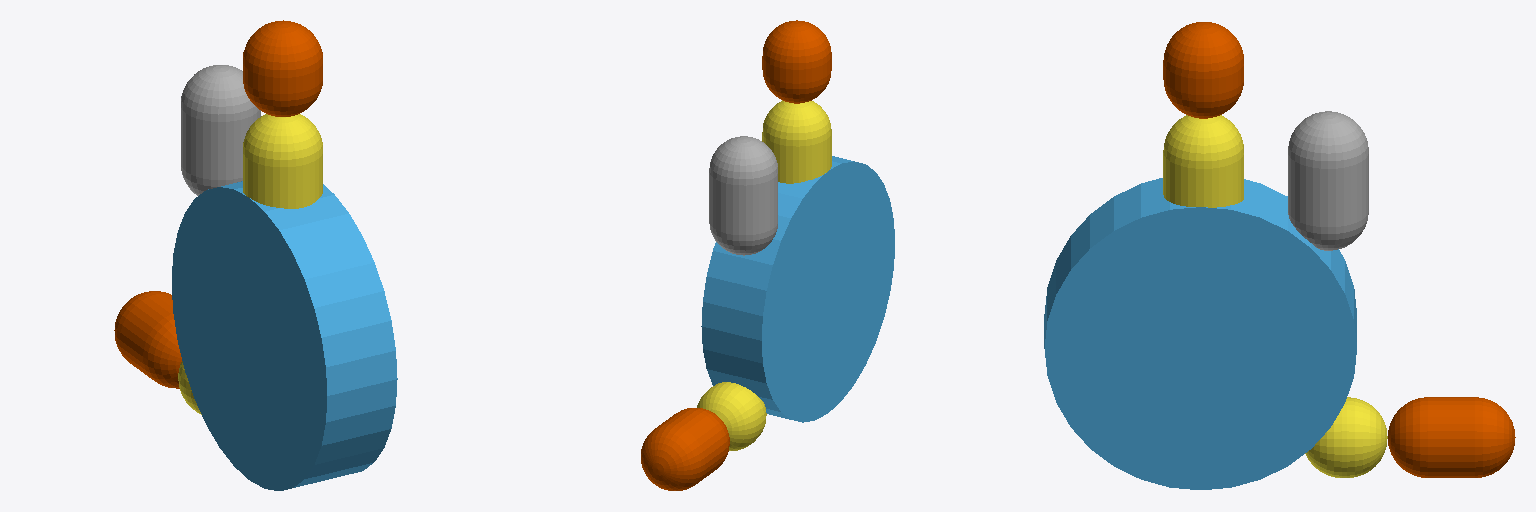
URDF robot description (DexterousHand):
<?xml version="1.0"?>
<robot name="DexterousHand">


    <link name="world"/>
    <joint name="world_to_palm" type="fixed">
        <parent link="world"/>
        <child link="palm"/>
        <origin xyz="0 0 0" rpy="0 0 0"/>
    </joint>
    <link name="palm">
        <inertial>
            <origin xyz="0 0 0.057" rpy="0 0 0"/>
            <mass value="0.30212892864"/>
            <inertia ixx="0.00049080844457568" ixy="0.0" ixz="0.0" iyy="0.00026746366246427523" iyz="0.0" izz="0.00026746366246427523"/>
        </inertial>
        <visual>
            <origin xyz="0 0 0.057" rpy="1.5708 0 1.5708"/>
            <geometry>
                <cylinder radius="0.057" length="0.0296"/>
            </geometry>
            <material name="default"/>
        </visual>
        <collision>
            <origin xyz="0 0 0.057" rpy="1.5708 0 1.5708"/>
            <geometry>
                <cylinder radius="0.057" length="0.0296"/>
            </geometry>
        </collision>
    </link>

    
    <joint name="thumb_joint1" type="revolute">
        <parent link="palm"/>
        <child link="thumb_base"/>
        <origin xyz="0.0029 0.0368 0.0157" rpy="-1.5708 -1.5708 0.0"/>
        <axis xyz="-1 0 0"/>
        <limit lower="-0.349" upper="2.094" effort="1.0" velocity="1.0"/>
    </joint>

    <link name="thumb_base"></link>

    <joint name="thumb_joint2" type="revolute">
        <parent link="thumb_base"/>
        <child link="thumb_proximal"/>
        <origin xyz="0.0 0.0 0.0" rpy="0.0 0.0 0.0"/>
        <axis xyz="0 0 1"/>
        <limit lower="-0.47" upper="2.443" effort="1.0" velocity="1.0"/>
    </joint>

    <link name="thumb_proximal">
        <inertial>
            <origin xyz="0 0 0.01565" rpy="0 0 0"/>
            <mass value="0.021538658803200002"/>
            <inertia ixx="2.9378910096388167e-06" ixy="0.0" ixz="0.0" 
            iyy="2.9378910096388167e-06" iyz="0.0" izz="2.358913912126464e-06"/>
        </inertial>
        <visual>
            <origin xyz="0 0 0.01565" rpy="0 0 0"/>
            <geometry>
                <cylinder radius="0.0148" length="0.0017000000000000001"/>
            </geometry>
            <material name="default"/>
        </visual>
        <visual>
            <origin xyz="0 0 0.0148" rpy="0 0 0"/>
            <geometry>
                <sphere radius="0.0148"/>
            </geometry>
            <material name="default"/>
        </visual>
        <visual>
            <origin xyz="0 0 0.0165" rpy="0 0 0"/>
            <geometry>
                <sphere radius="0.0148"/>
            </geometry>
            <material name="default"/>
        </visual>
        <collision>
            <origin xyz="0 0 0.01565" rpy="0 0 0"/>
            <geometry>
                <cylinder radius="0.0148" length="0.0017000000000000001"/>
            </geometry>
        </collision>
        <collision>
            <origin xyz="0 0 0.0148" rpy="0 0 0"/>
            <geometry>
                <sphere radius="0.0148"/>
            </geometry>
        </collision>
        <collision>
            <origin xyz="0 0 0.0165" rpy="0 0 0"/>
            <geometry>
                <sphere radius="0.0148"/>
            </geometry>
        </collision>
    </link>

    <joint name="thumb_joint3" type="revolute">
        <parent link="thumb_proximal"/>
        <child link="thumb_knuckle"/>
        <origin xyz="0.0 0.0 0.0313" rpy="0.0 0.0 0.0"/>
        <axis xyz="1 0 0"/>
        <limit lower="0.0" upper="0.0" effort="1.0" velocity="1.0"/>
    </joint>

    <link name="thumb_knuckle"></link>

    <joint name="thumb_joint4" type="revolute">
        <parent link="thumb_knuckle"/>
        <child link="thumb_middle"/>
        <origin xyz="0 0 0" rpy="0 0 0"/> 
        <axis xyz="0 1 0"/>
        <limit lower="-1.2" upper="1.9" effort="1.0" velocity="1.0"/>
    </joint>

    <link name="thumb_middle">
        <inertial>
            <origin xyz="0 0 0.0233" rpy="0 0 0"/>
            <mass value="0.032067140582400004"/>
            <inertia ixx="7.5589732685519385e-06" ixy="0.0" ixz="0.0" 
            iyy="7.5589732685519385e-06" iyz="0.0" izz="3.5119932365844485e-06"/>
        </inertial>
        <visual>
            <origin xyz="0 0 0.0233" rpy="0 0 0"/>
            <geometry>
                <cylinder radius="0.0148" length="0.017"/>
            </geometry>
            <material name="default"/>
        </visual>
        <visual>
            <origin xyz="0 0 0.0148" rpy="0 0 0"/>
            <geometry>
                <sphere radius="0.0148"/>
            </geometry>
            <material name="default"/>
        </visual>
        <visual>
            <origin xyz="0 0 0.0318" rpy="0 0 0"/>
            <geometry>
                <sphere radius="0.0148"/>
            </geometry>
            <material name="default"/>
        </visual>
        <collision>
            <origin xyz="0 0 0.0233" rpy="0 0 0"/>
            <geometry>
                <cylinder radius="0.0148" length="0.017"/>
            </geometry>
        </collision>
        <collision>
            <origin xyz="0 0 0.0148" rpy="0 0 0"/>
            <geometry>
                <sphere radius="0.0148"/>
            </geometry>
        </collision>
        <collision>
            <origin xyz="0 0 0.0318" rpy="0 0 0"/>
            <geometry>
                <sphere radius="0.0148"/>
            </geometry>
        </collision>
    </link>

    <joint name="thumb_joint5" type="revolute">
        <parent link="thumb_middle"/>
        <child link="thumb_distal"/>
        <origin xyz="0 0 0.0466" rpy="0 0 0"/> 
        <axis xyz="0 1 0"/>
        <limit lower="0.0" upper="0.0" effort="1.0" velocity="1.0"/>
    </joint>

    <link name="thumb_distal">
    </link>

    
    <joint name="index_joint1" type="revolute">
        <parent link="palm"/>
        <child link="index_proximal"/>
        <origin xyz="0.0 0.0465 0.091" rpy="0.0 0.0 0.0"/>
        <axis xyz="0 1 0"/>
        <limit lower="-0.314" upper="2.23" effort="1.0" velocity="1.0"/>
    </joint>

    <link name="index_proximal">
        <inertial>
            <origin xyz="0 0 0.02655" rpy="0 0 0"/>
            <mass value="0.036540024998400006"/>
            <inertia ixx="1.058665009272394e-05" ixy="0.0" ixz="0.0" 
            iyy="1.058665009272394e-05" iyz="0.0" izz="4.001863537824769e-06"/>
        </inertial>
        <visual>
            <origin xyz="0 0 0.02655" rpy="0 0 0"/>
            <geometry>
                <cylinder radius="0.0148" length="0.0235"/>
            </geometry>
            <material name="default"/>
        </visual>
        <visual>
            <origin xyz="0 0 0.0148" rpy="0 0 0"/>
            <geometry>
                <sphere radius="0.0148"/>
            </geometry>
            <material name="default"/>
        </visual>
        <visual>
            <origin xyz="0 0 0.0383" rpy="0 0 0"/>
            <geometry>
                <sphere radius="0.0148"/>
            </geometry>
            <material name="default"/>
        </visual>
        <collision>
            <origin xyz="0 0 0.02655" rpy="0 0 0"/>
            <geometry>
                <cylinder radius="0.0148" length="0.0235"/>
            </geometry>
        </collision>
        <collision>
            <origin xyz="0 0 0.0148" rpy="0 0 0"/>
            <geometry>
                <sphere radius="0.0148"/>
            </geometry>
        </collision>
        <collision>
            <origin xyz="0 0 0.0383" rpy="0 0 0"/>
            <geometry>
                <sphere radius="0.0148"/>
            </geometry>
        </collision>
    </link>

    <joint name="index_joint2" type="revolute">
        <parent link="index_proximal"/>
        <child link="index_dummy"/>
        <origin xyz="0.0 0.0 0.038" rpy="0.0 0.0 0.0"/>
        <axis xyz="0 1 0"/>
        <limit lower="0.0" upper="0.0" effort="1.0" velocity="1.0"/>
    </joint>

    <link name="index_dummy"></link>

    <joint name="index_joint3" type="revolute">
        <parent link="index_dummy"/>
        <child link="index_middle"/>
        <origin xyz="0 0 0.015100000000000002" rpy="0 0 0"/>
        <axis xyz="0 1 0"/>
        <limit lower="0.0" upper="0.0" effort="1.0" velocity="1.0"/>
    </joint>

    <link name="index_middle">
    </link>

    <joint name="index_joint4" type="revolute">
        <parent link="index_middle"/>
        <child link="index_distal"/>
        <origin xyz="0 0 0" rpy="0 0 0"/> 
        <axis xyz="0 1 0"/>
        <limit lower="0.0" upper="0.0" effort="1.0" velocity="1.0"/>
    </joint>

    <link name="index_distal">
    </link>

    
    <joint name="middle_joint1" type="revolute">
        <parent link="palm"/>
        <child link="middle_proximal"/>
        <origin xyz="0.0 0.0011 0.091" rpy="0.0 0.0 0.0"/>
        <axis xyz="0 1 0"/>
        <limit lower="-0.314" upper="2.23" effort="1.0" velocity="1.0"/>
    </joint>

    <link name="middle_proximal">
        <inertial>
            <origin xyz="0 0 0.02655" rpy="0 0 0"/>
            <mass value="0.036540024998400006"/>
            <inertia ixx="1.058665009272394e-05" ixy="0.0" ixz="0.0" 
            iyy="1.058665009272394e-05" iyz="0.0" izz="4.001863537824769e-06"/>
        </inertial>
        <visual>
            <origin xyz="0 0 0.02655" rpy="0 0 0"/>
            <geometry>
                <cylinder radius="0.0148" length="0.0235"/>
            </geometry>
            <material name="default"/>
        </visual>
        <visual>
            <origin xyz="0 0 0.0148" rpy="0 0 0"/>
            <geometry>
                <sphere radius="0.0148"/>
            </geometry>
            <material name="default"/>
        </visual>
        <visual>
            <origin xyz="0 0 0.0383" rpy="0 0 0"/>
            <geometry>
                <sphere radius="0.0148"/>
            </geometry>
            <material name="default"/>
        </visual>
        <collision>
            <origin xyz="0 0 0.02655" rpy="0 0 0"/>
            <geometry>
                <cylinder radius="0.0148" length="0.0235"/>
            </geometry>
        </collision>
        <collision>
            <origin xyz="0 0 0.0148" rpy="0 0 0"/>
            <geometry>
                <sphere radius="0.0148"/>
            </geometry>
        </collision>
        <collision>
            <origin xyz="0 0 0.0383" rpy="0 0 0"/>
            <geometry>
                <sphere radius="0.0148"/>
            </geometry>
        </collision>
    </link>

    <joint name="middle_joint2" type="revolute">
        <parent link="middle_proximal"/>
        <child link="middle_dummy"/>
        <origin xyz="0.0 0.0 0.038" rpy="0.0 0.0 0.0"/>
        <axis xyz="1 0 0"/>
        <limit lower="-1.047" upper="1.047" effort="1.0" velocity="1.0"/>
    </joint>

    <link name="middle_dummy"></link>

    <joint name="middle_joint3" type="revolute">
        <parent link="middle_dummy"/>
        <child link="middle_middle"/>
        <origin xyz="0 0 0.015100000000000002" rpy="0 0 0"/>
        <axis xyz="0 1 0"/>
        <limit lower="-0.506" upper="1.885" effort="1.0" velocity="1.0"/>
    </joint>

    <link name="middle_middle">
        <inertial>
            <origin xyz="0 0 0.01805" rpy="0 0 0"/>
            <mass value="0.0248417119104"/>
            <inertia ixx="4.058162759109537e-06" ixy="0.0" ixz="0.0" 
            iyy="4.058162759109537e-06" iyz="0.0" izz="2.7206642884270085e-06"/>
        </inertial>
        <visual>
            <origin xyz="0 0 0.01805" rpy="0 0 0"/>
            <geometry>
                <cylinder radius="0.0148" length="0.006499999999999999"/>
            </geometry>
            <material name="default"/>
        </visual>
        <visual>
            <origin xyz="0 0 0.0148" rpy="0 0 0"/>
            <geometry>
                <sphere radius="0.0148"/>
            </geometry>
            <material name="default"/>
        </visual>
        <visual>
            <origin xyz="0 0 0.0213" rpy="0 0 0"/>
            <geometry>
                <sphere radius="0.0148"/>
            </geometry>
            <material name="default"/>
        </visual>
        <collision>
            <origin xyz="0 0 0.01805" rpy="0 0 0"/>
            <geometry>
                <cylinder radius="0.0148" length="0.006499999999999999"/>
            </geometry>
        </collision>
        <collision>
            <origin xyz="0 0 0.0148" rpy="0 0 0"/>
            <geometry>
                <sphere radius="0.0148"/>
            </geometry>
        </collision>
        <collision>
            <origin xyz="0 0 0.0213" rpy="0 0 0"/>
            <geometry>
                <sphere radius="0.0148"/>
            </geometry>
        </collision>
    </link>

    <joint name="middle_joint4" type="revolute">
        <parent link="middle_middle"/>
        <child link="middle_distal"/>
        <origin xyz="0 0 0.0361" rpy="0 0 0"/> 
        <axis xyz="0 1 0"/>
        <limit lower="0.0" upper="0.0" effort="1.0" velocity="1.0"/>
    </joint>

    <link name="middle_distal">
    </link>

    
    <joint name="ring_joint1" type="revolute">
        <parent link="palm"/>
        <child link="ring_proximal"/>
        <origin xyz="0.0 0.0 0.0" rpy="0.0 0.0 0.0"/>
        <axis xyz="1 0 0"/>
        <limit lower="0.0" upper="0.0" effort="1.0" velocity="1.0"/>
    </joint>

    <link name="ring_proximal">
    </link>

    <joint name="ring_joint2" type="revolute">
        <parent link="ring_proximal"/>
        <child link="ring_dummy"/>
        <origin xyz="0.0 0.0 0.0" rpy="0.0 0.0 0.0"/>
        <axis xyz="0 1 0"/>
        <limit lower="0.0" upper="0.0" effort="1.0" velocity="1.0"/>
    </joint>

    <link name="ring_dummy"></link>

    <joint name="ring_joint3" type="revolute">
        <parent link="ring_dummy"/>
        <child link="ring_middle"/>
        <origin xyz="0 0 0" rpy="0 0 0"/>
        <axis xyz="0 1 0"/>
        <limit lower="0.0" upper="0.0" effort="1.0" velocity="1.0"/>
    </joint>

    <link name="ring_middle">
    </link>

    <joint name="ring_joint4" type="revolute">
        <parent link="ring_middle"/>
        <child link="ring_distal"/>
        <origin xyz="0 0 0" rpy="0 0 0"/> 
        <axis xyz="0 1 0"/>
        <limit lower="0.0" upper="0.0" effort="1.0" velocity="1.0"/>
    </joint>

    <link name="ring_distal">
    </link>

    
    <joint name="little_joint0" type="revolute">
        <parent link="palm"/>
        <child link="little_base"/>
        <origin xyz="0.0 0.0 0.0" rpy="0.0 0.0 0.0"/>
        <axis xyz="0 1 0"/>
        <limit lower="0.0" upper="0.0" effort="1.0" velocity="1.0"/>
    </joint>

    <link name="little_base"></link>

    <joint name="little_joint1" type="revolute">
        <parent link="little_base"/>
        <child link="little_proximal"/>
        <origin xyz="0.0 0.0 0.0" rpy="-0.0 -0.0 -0.0"/>
        <axis xyz="1 0 0"/>
        <limit lower="0.0" upper="0.0" effort="1.0" velocity="1.0"/>
    </joint>

    <link name="little_proximal">
    </link>

    <joint name="little_joint2" type="revolute">
        <parent link="little_proximal"/>
        <child link="little_dummy"/>
        <origin xyz="0.0 0.0 0.0" rpy="0.0 0.0 0.0"/>
        <axis xyz="0 1 0"/>
        <limit lower="0.0" upper="0.0" effort="1.0" velocity="1.0"/>
    </joint>

    <link name="little_dummy"></link>

    <joint name="little_joint3" type="revolute">
        <parent link="little_dummy"/>
        <child link="little_middle"/>
        <origin xyz="0 0 0" rpy="0 0 0"/>
        <axis xyz="0 1 0"/>
        <limit lower="0.0" upper="0.0" effort="1.0" velocity="1.0"/>
    </joint>

    <link name="little_middle">
    </link>

    <joint name="little_joint4" type="revolute">
        <parent link="little_middle"/>
        <child link="little_distal"/>
        <origin xyz="0 0 0" rpy="0 0 0"/>
        <axis xyz="0 1 0"/>
        <limit lower="0.0" upper="0.0" effort="1.0" velocity="1.0"/>
    </joint>

    <link name="little_distal">
    </link>

</robot>

--- What the picture shows (computed from the rendered views, not written in the file) ---
3 views of the same robot in one strip: view 1: azimuth 30°, elevation 25°; view 2: azimuth 150°, elevation 25°; view 3: azimuth 270°, elevation 25° (orthographic).
Robot: DexterousHand — 24 links, 23 joints (22 revolute, 1 fixed); root link world; default pose: all joints at 0.
Visible links, largest first — view 1: palm, index_proximal, middle_proximal, middle_middle, thumb_middle; view 2: palm, index_proximal, thumb_middle, middle_middle, middle_proximal, thumb_proximal; view 3: palm, index_proximal, thumb_middle, middle_proximal, middle_middle, thumb_proximal.
Boxes of the visible links, bbox=[...] form: palm: bbox=[172, 181, 397, 490]; index_proximal: bbox=[181, 65, 260, 195]; middle_proximal: bbox=[243, 114, 322, 208]; middle_middle: bbox=[243, 20, 322, 116]; thumb_middle: bbox=[114, 291, 181, 388]; palm: bbox=[701, 156, 894, 422]; index_proximal: bbox=[709, 136, 777, 255]; thumb_middle: bbox=[641, 408, 729, 490]; middle_middle: bbox=[762, 20, 831, 103]; middle_proximal: bbox=[762, 100, 831, 183]; thumb_proximal: bbox=[697, 382, 766, 450]; palm: bbox=[1044, 178, 1356, 489]; index_proximal: bbox=[1288, 111, 1368, 250]; thumb_middle: bbox=[1388, 397, 1515, 477]; middle_proximal: bbox=[1163, 115, 1243, 207]; middle_middle: bbox=[1163, 22, 1243, 118]; thumb_proximal: bbox=[1305, 397, 1387, 477].
Bounding box of the posed robot: 0.0325 × 0.1717 × 0.1802 m (x, y, z).
Geometry: primitives only (box / cylinder / sphere), no mesh files.
